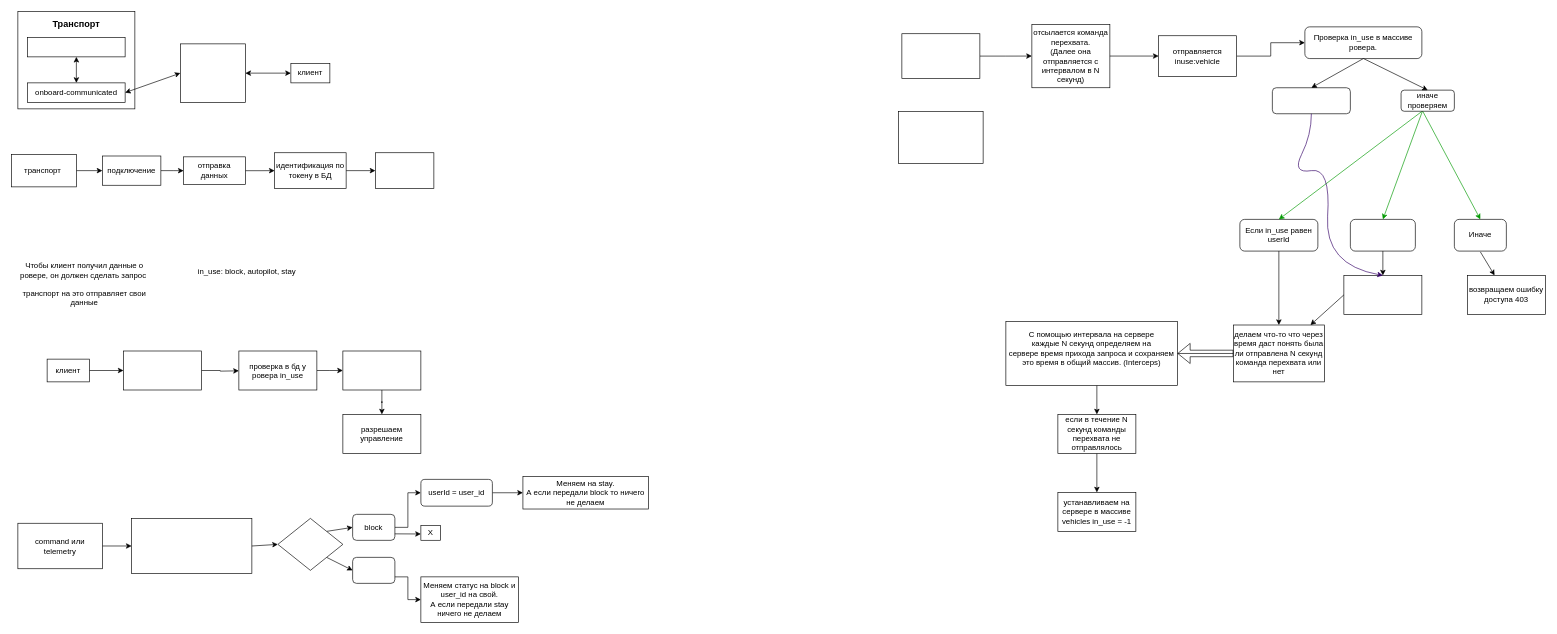
Some shapes in this 1557 by 634 pixel diagram are drawn without their labels. The box of each missing label's shape, as (x1, y1, x2, y2) in pixels:
onboard-logic: (27, 37, 125, 57)
stay: (352, 557, 395, 583)
Если in_use равен -1: (1350, 219, 1415, 251)
Если в базе: (277, 518, 343, 570)
если значение stay или autopilot: (342, 350, 421, 390)
Если у пользователя status='admin': (1272, 87, 1350, 114)
отправляет запрос на управление ровером: (123, 350, 202, 390)
пользователь берет под управление ровер: (901, 33, 980, 78)
пользователь отправляет команду роверу: (898, 111, 983, 163)
пользователь шлет in_use (userId, {block или stay}): (131, 518, 252, 574)
Сервер: (180, 43, 245, 102)
соединение: (375, 152, 434, 188)
устанавливаем на сервере в массиве vehicles in_use = userId: (1343, 275, 1422, 314)
